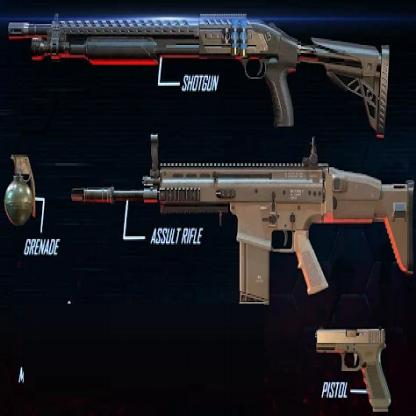Grenade: (4, 150, 37, 232)
Gun: (69, 129, 416, 309), (6, 10, 390, 140)
Pistol: (313, 322, 393, 416)
